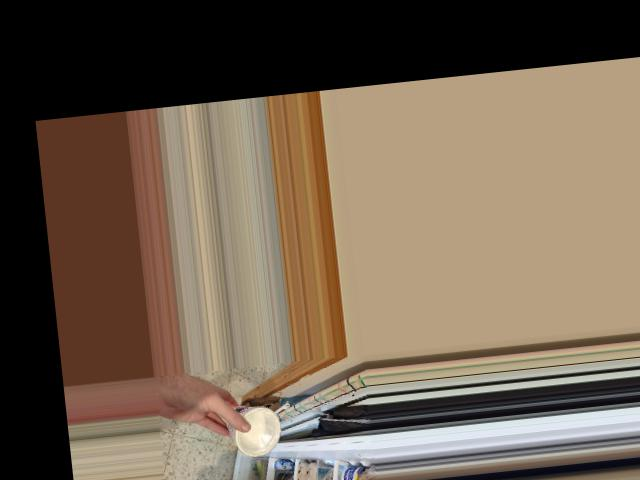cotage: (230, 397, 288, 454)
